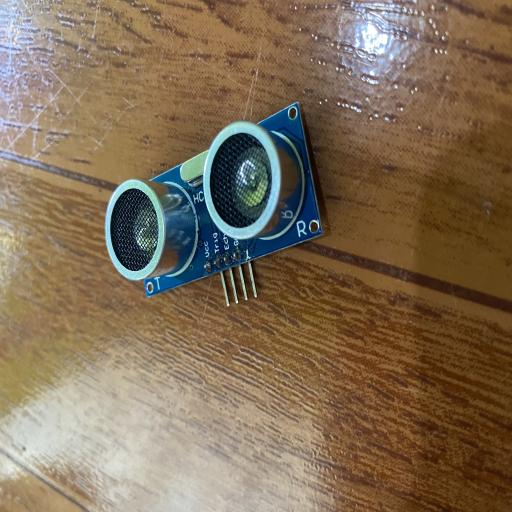Ultrasonic Sensor: (104, 101, 323, 317)
